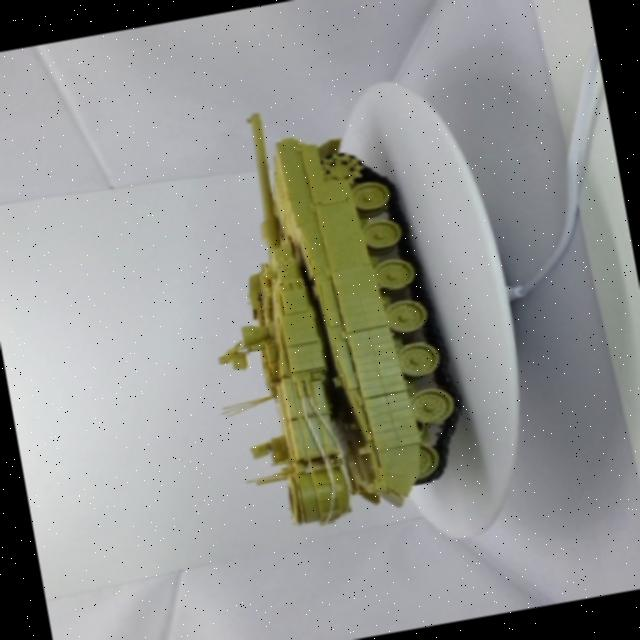korea tank: (150, 52, 490, 562)
